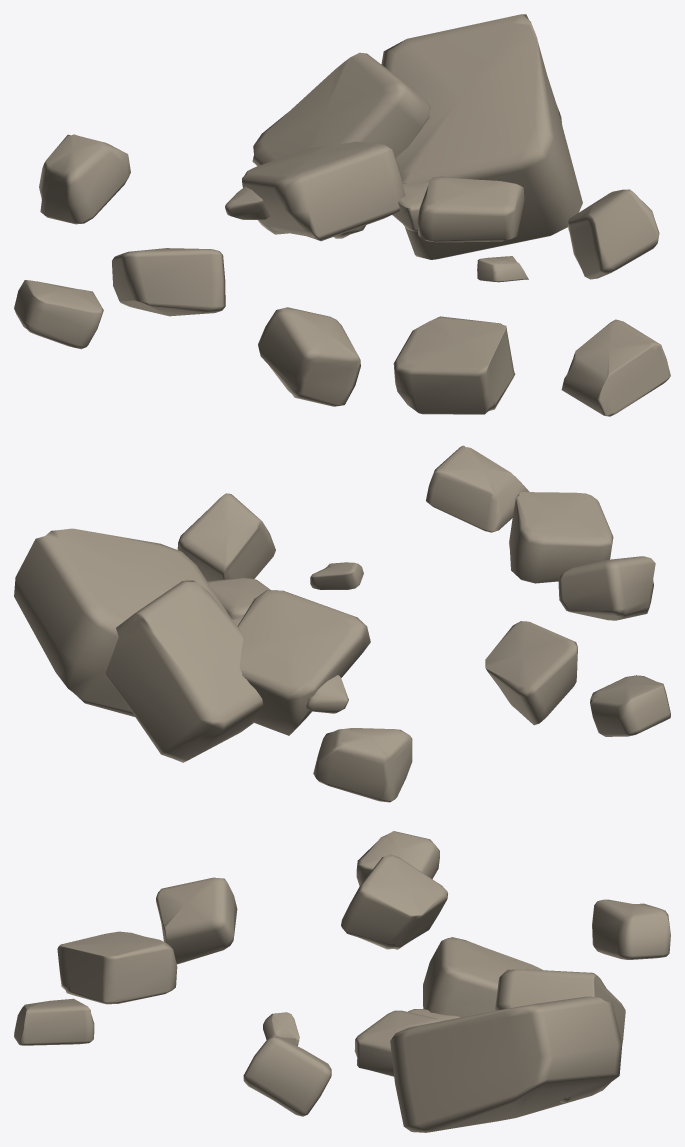
The model's file is landscape.rock.scree_b.glb.
3 views of the same model, one above another, from view 1: azimuth 30°, elevation 25°; view 2: azimuth 150°, elevation 25°; view 3: azimuth 270°, elevation 25° (orthographic). The views are drawn at different scales.
Parts seen in each view (by area): view 1: main__stone_a98; view 2: main__stone_a98; view 3: main__stone_a98.
Part boxes in pixels (<box>): main__stone_a98: <box>14,14,670,416</box>; main__stone_a98: <box>14,445,670,802</box>; main__stone_a98: <box>14,831,670,1132</box>.
Bounding box in the file's own units: 1.39 × 0.4159 × 1.46.
